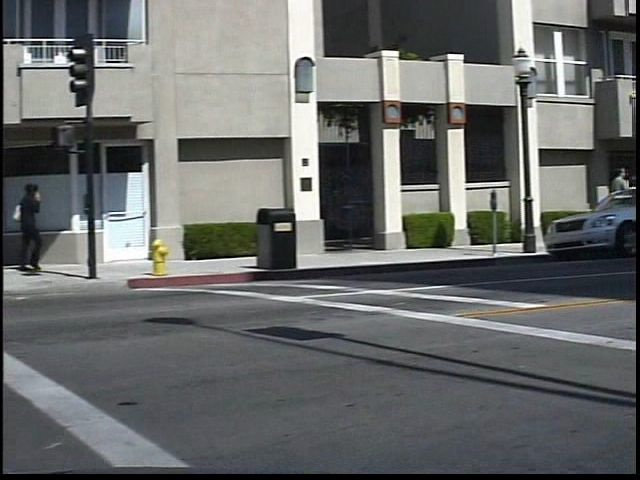person: (22, 177, 68, 278), (613, 163, 637, 239)
